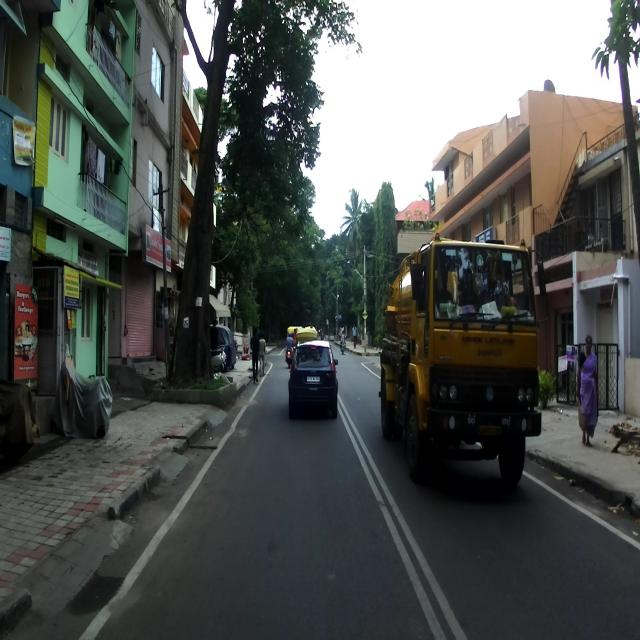Car_Ford: (288, 336, 340, 417)
motorcycle: (54, 346, 113, 438)
truck: (378, 232, 546, 488)
